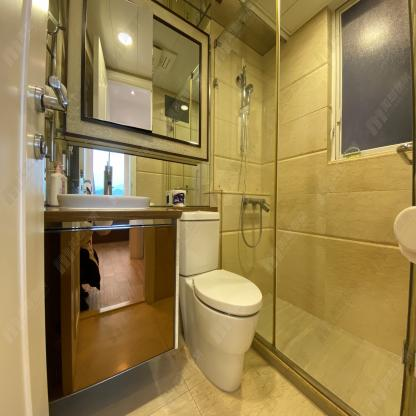Toilet: (179, 212, 263, 390)
Water Cubicle: (211, 0, 415, 416)
